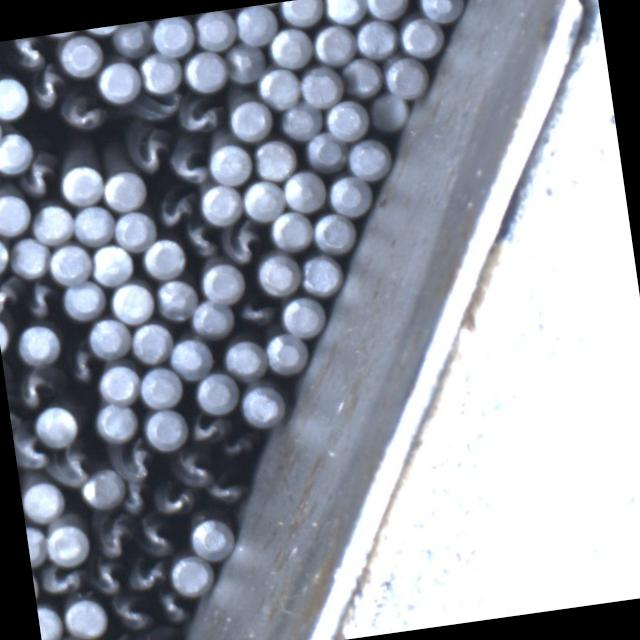tool: (56, 32, 105, 80), (252, 136, 300, 184), (256, 251, 304, 299), (255, 66, 303, 113), (240, 382, 287, 429), (238, 176, 286, 222), (58, 161, 106, 207), (16, 322, 64, 368), (167, 336, 215, 382), (78, 466, 126, 512), (44, 520, 91, 566), (268, 24, 315, 70), (206, 142, 253, 188), (189, 516, 236, 562), (61, 594, 108, 640), (280, 167, 327, 213), (95, 60, 142, 106), (182, 49, 229, 95), (199, 261, 246, 307), (109, 280, 156, 326), (87, 315, 133, 362), (194, 370, 240, 417), (31, 401, 79, 446), (222, 337, 270, 382), (198, 180, 244, 226), (312, 22, 358, 68), (228, 96, 274, 142), (299, 64, 345, 110), (346, 136, 392, 182), (31, 200, 77, 246), (142, 407, 188, 453), (167, 552, 213, 598), (90, 242, 136, 288), (102, 167, 148, 213), (20, 478, 66, 524), (220, 39, 266, 85), (152, 278, 198, 324), (280, 293, 327, 338), (48, 242, 95, 287), (138, 49, 185, 94), (354, 18, 402, 62), (266, 208, 314, 252), (399, 13, 445, 58), (263, 331, 308, 377), (137, 364, 183, 409), (233, 4, 280, 48), (8, 233, 52, 280), (190, 297, 237, 341), (97, 362, 142, 407), (328, 172, 374, 216), (192, 10, 238, 54), (130, 320, 174, 366), (340, 56, 384, 102), (306, 130, 350, 176), (63, 279, 109, 323), (94, 400, 140, 444), (324, 98, 369, 142), (312, 209, 356, 254), (142, 237, 188, 280), (280, 98, 326, 141), (150, 15, 197, 57), (384, 56, 428, 100), (72, 202, 116, 246), (298, 252, 342, 296), (113, 210, 158, 252), (368, 90, 411, 133), (111, 21, 154, 59), (0, 190, 34, 238), (0, 129, 36, 174), (0, 74, 30, 121), (280, 0, 326, 28), (325, 0, 368, 25), (26, 522, 50, 566), (37, 603, 65, 640), (416, 0, 463, 22), (363, 0, 409, 20), (0, 232, 12, 276), (82, 25, 124, 36), (0, 313, 11, 354)
tool_b: (13, 362, 62, 410), (93, 510, 140, 560), (18, 151, 62, 204), (219, 220, 267, 268), (127, 128, 172, 178), (60, 90, 107, 135), (168, 141, 212, 189), (111, 440, 155, 486), (12, 426, 52, 476), (27, 65, 69, 112), (49, 445, 93, 489), (110, 591, 154, 634), (37, 560, 84, 600), (153, 191, 197, 232), (181, 221, 222, 264), (178, 96, 222, 136), (126, 556, 170, 596), (234, 294, 278, 334), (138, 89, 186, 125), (173, 448, 214, 490), (138, 514, 176, 558), (202, 470, 245, 508), (154, 480, 196, 518), (153, 589, 192, 628), (62, 349, 100, 389), (22, 279, 58, 321), (88, 558, 126, 597), (186, 411, 227, 447), (8, 36, 50, 70), (218, 429, 256, 462), (121, 481, 154, 518), (0, 275, 21, 316), (136, 625, 183, 640)
